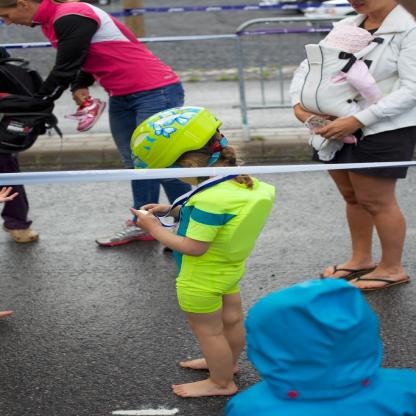Helmet: (120, 103, 232, 166)
